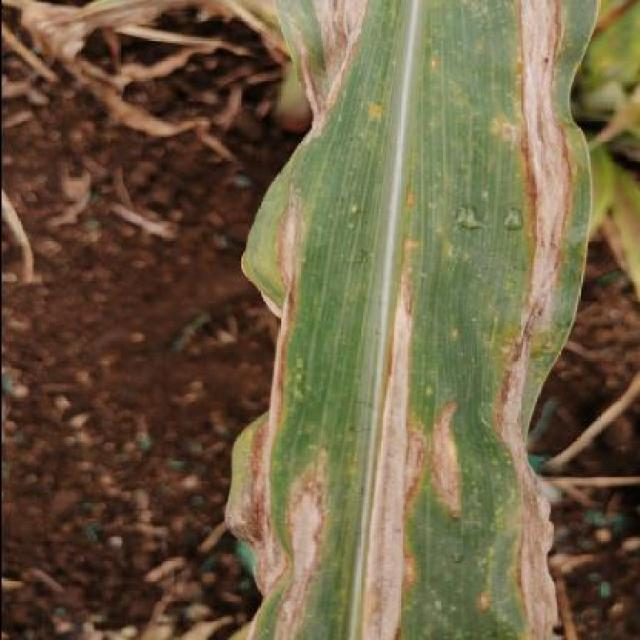Corn_Leaf_Blight: (226, 0, 600, 640)
